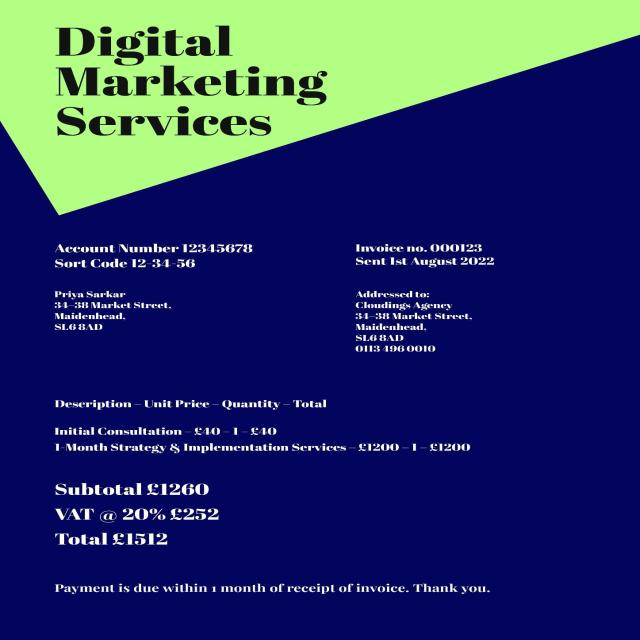paragraph: (58, 26, 331, 143), (46, 237, 258, 336), (53, 482, 224, 550), (344, 287, 497, 354), (56, 583, 497, 598), (351, 238, 510, 271)
table: (44, 393, 485, 457)
